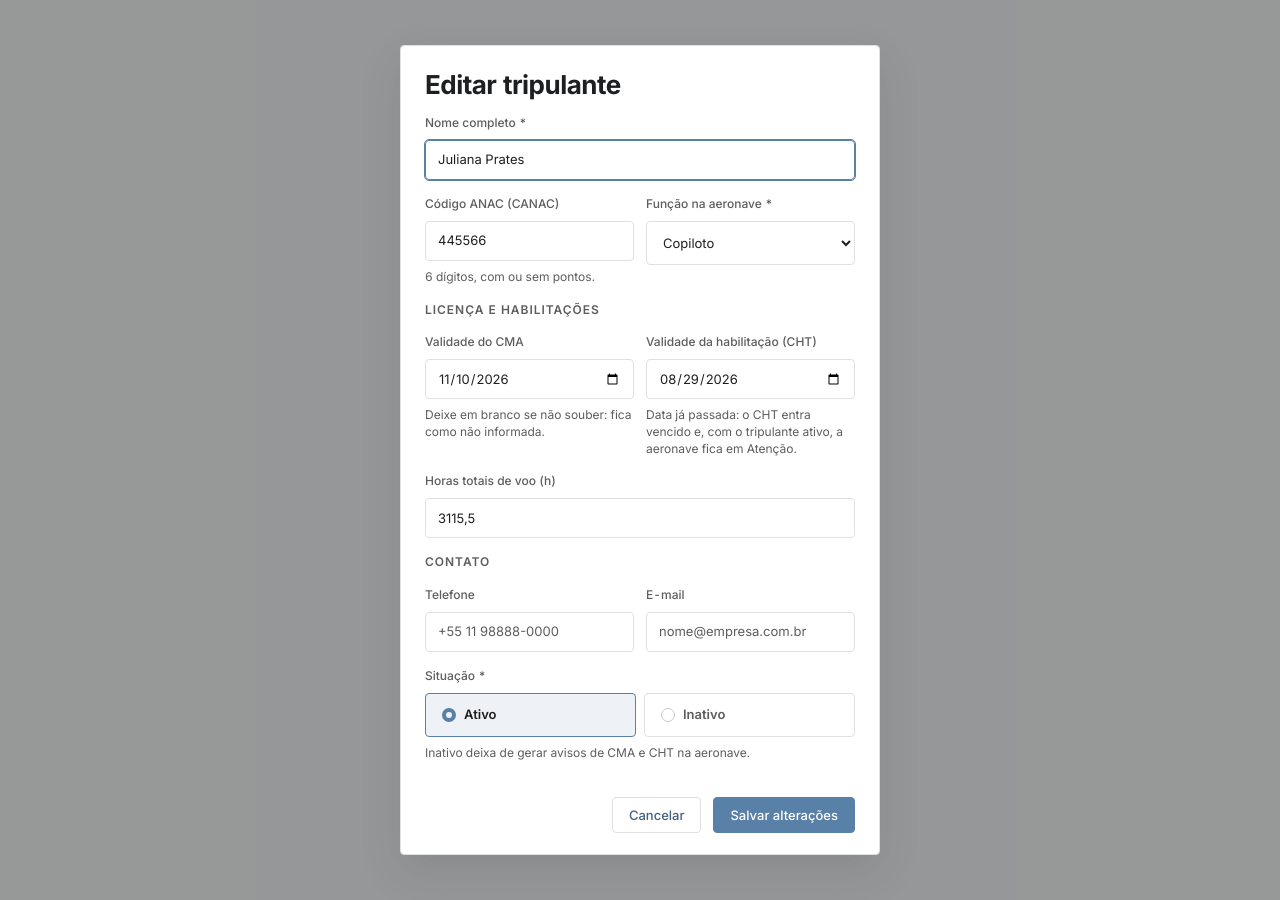
Test: PainelDeTripulante › sem rede, o resumo diz que não salvou e o painel continua aberto
The width and height of the screenshot is (1280, 900).
Click the button "Salvar alterações": x=784, y=816 [714,798,855,834]
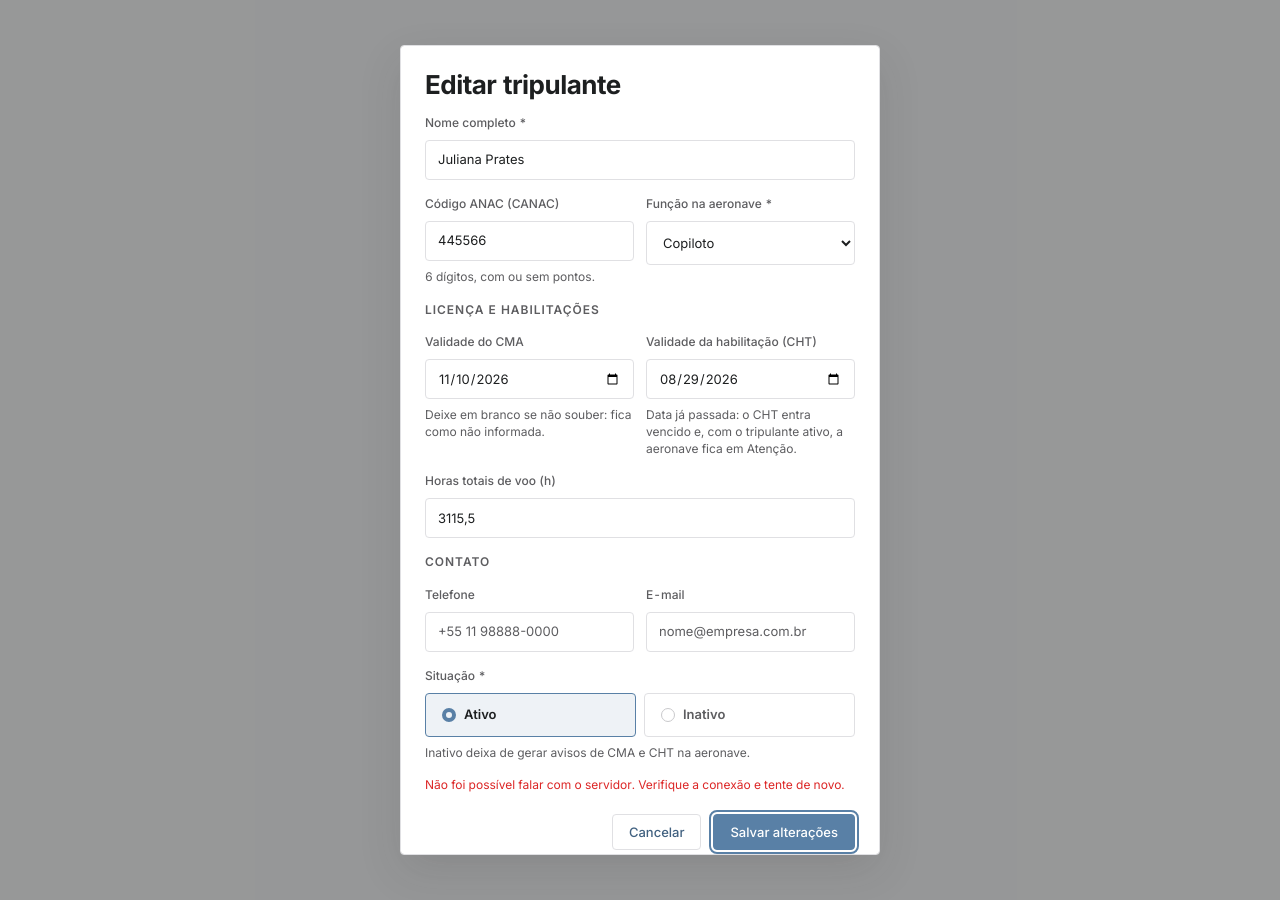
Expected: the message shows "Não foi possível falar com o servidor.", [425,778,845,792]
